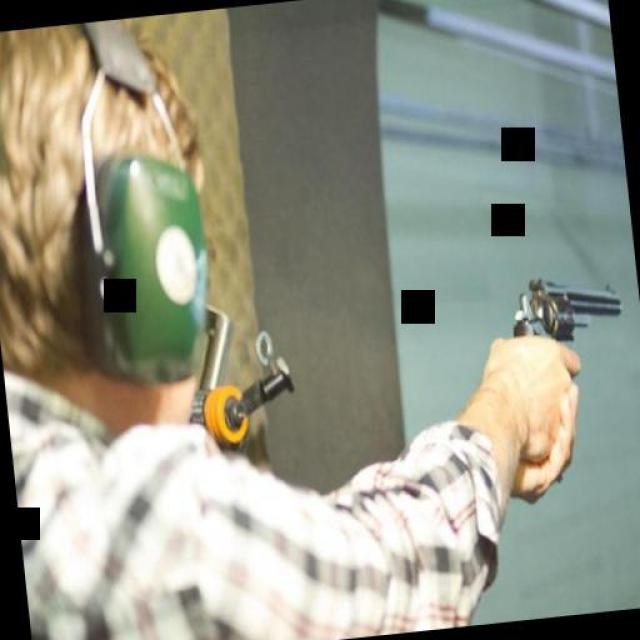gun: (503, 262, 625, 356)
